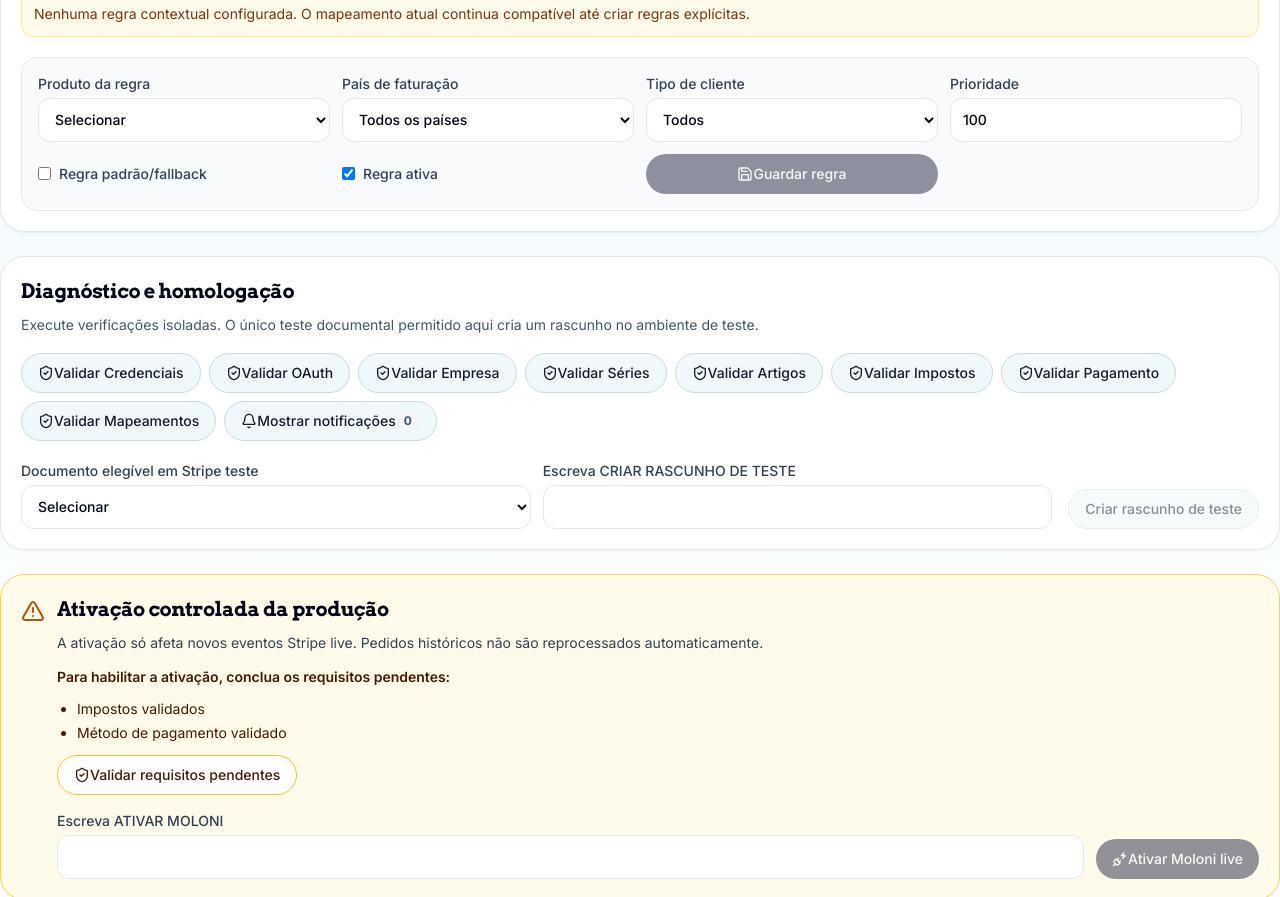
AdminMoloni › validates server-side requirements that still block live activation
(page scrolled)
Expected: the text "Para habilitar a ativação, conclua os requisitos pendentes:" is shown, x1=57 y1=668 x2=450 y2=684
Step 1. Click the button "Validar requisitos pendentes" → (177, 774), box x1=57 y1=754 x2=297 y2=794
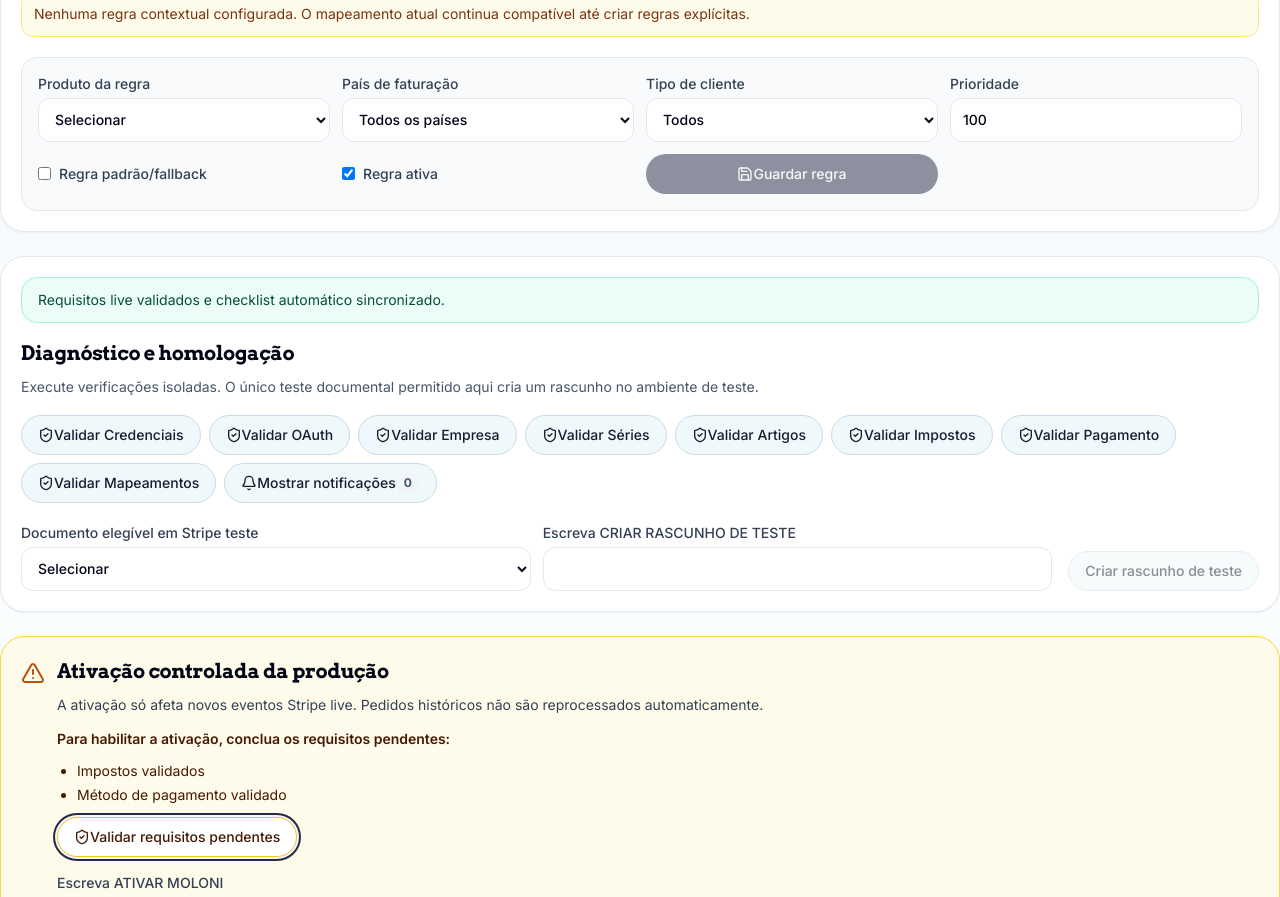
Expected: the text "Requisitos live validados e checklist automático sincronizado." is shown, x1=21 y1=276 x2=1259 y2=322
